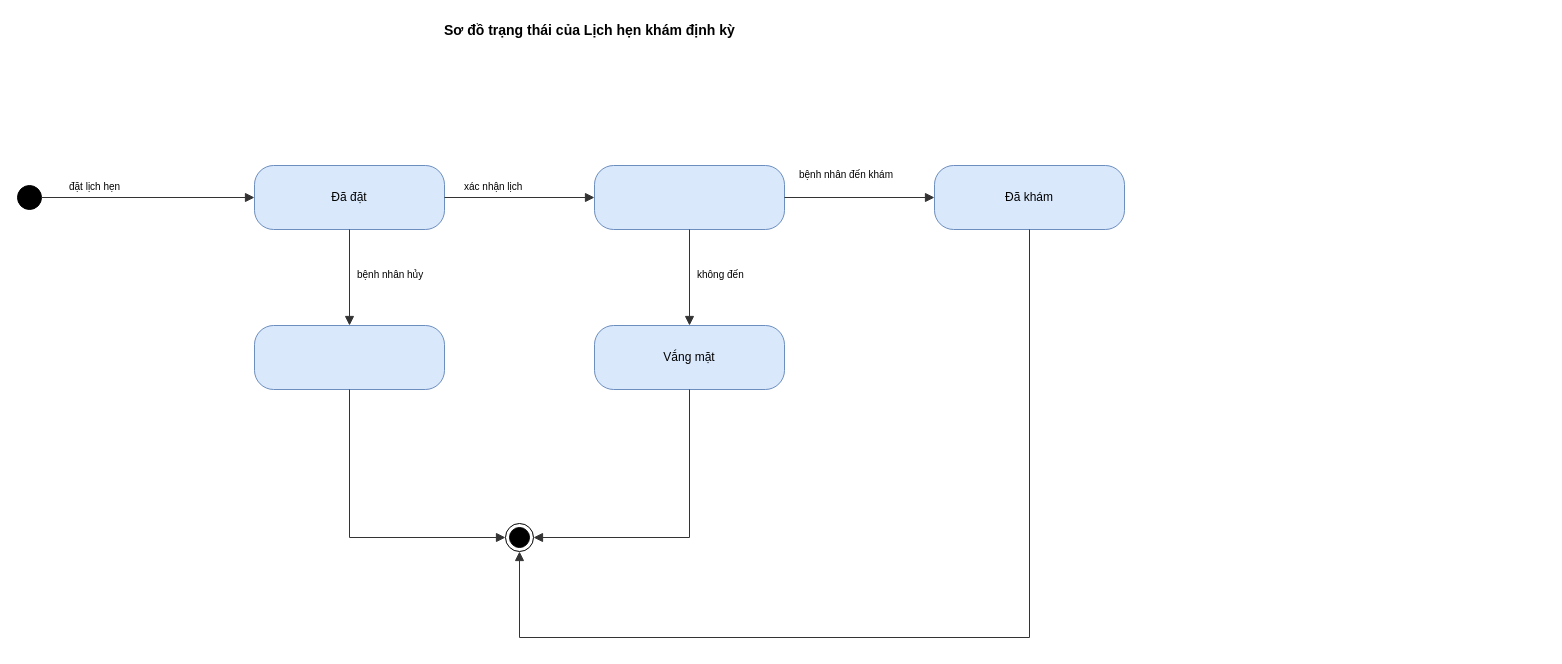
Image size: 1562x664. Some labels were removed from this diagram. Each missing label, with the centre of its shape:
"Đã hủy" belongs at (349,357).
"Đã xác nhận" belongs at (689,197).
